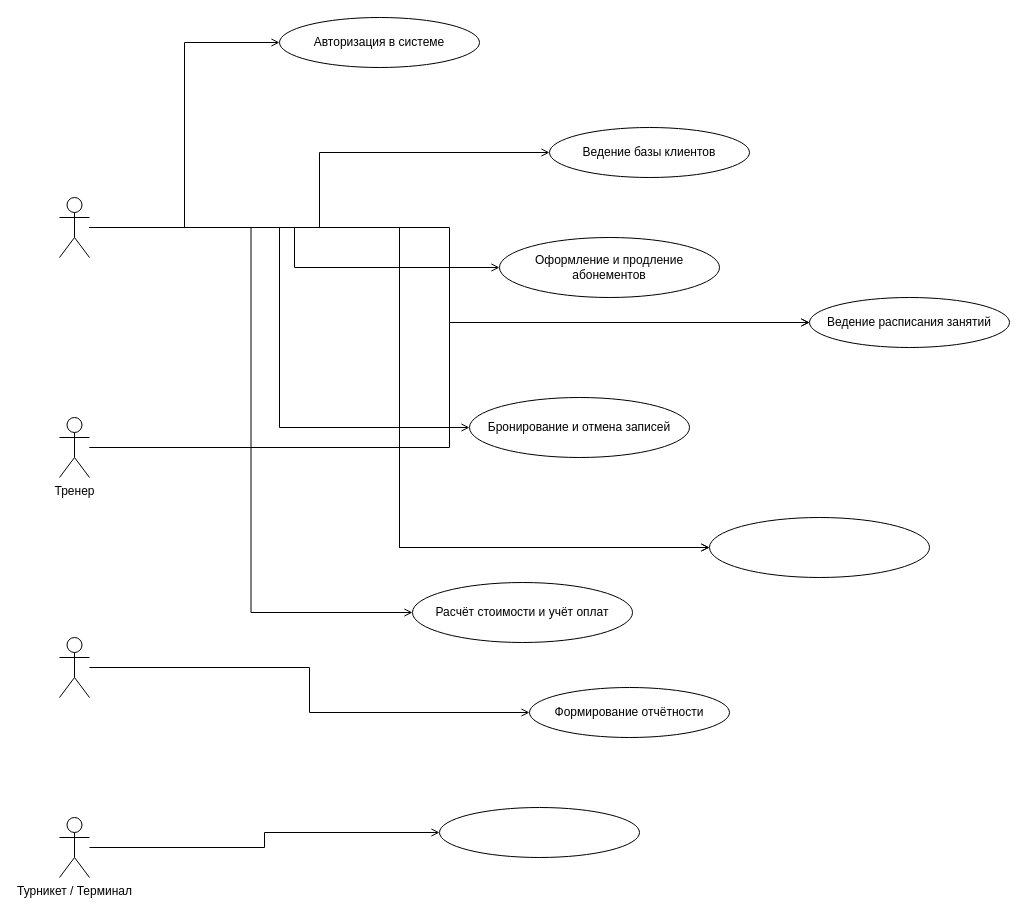
The diagram is 1027 pixels wide and 916 high, and some of its shapes have lost their labels. The shapes that lost their labels are listed below. From the top down, each one's centre as x and y in pixels, then its label:
At pixel 74 227: "Администратор".
At pixel 819 547: "Учёт посещаемости (вход/выход)".
At pixel 74 667: "Управляющий".
At pixel 539 832: "Проверка абонемента".
